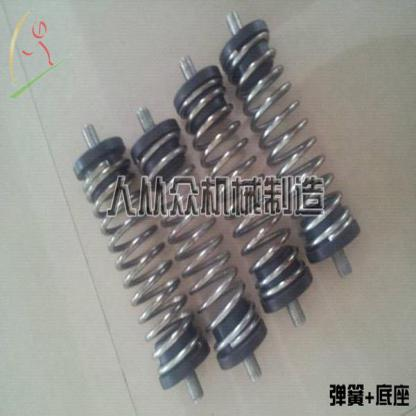FOD: (74, 133, 201, 375), (181, 76, 308, 308), (226, 26, 354, 252), (141, 128, 262, 360)
